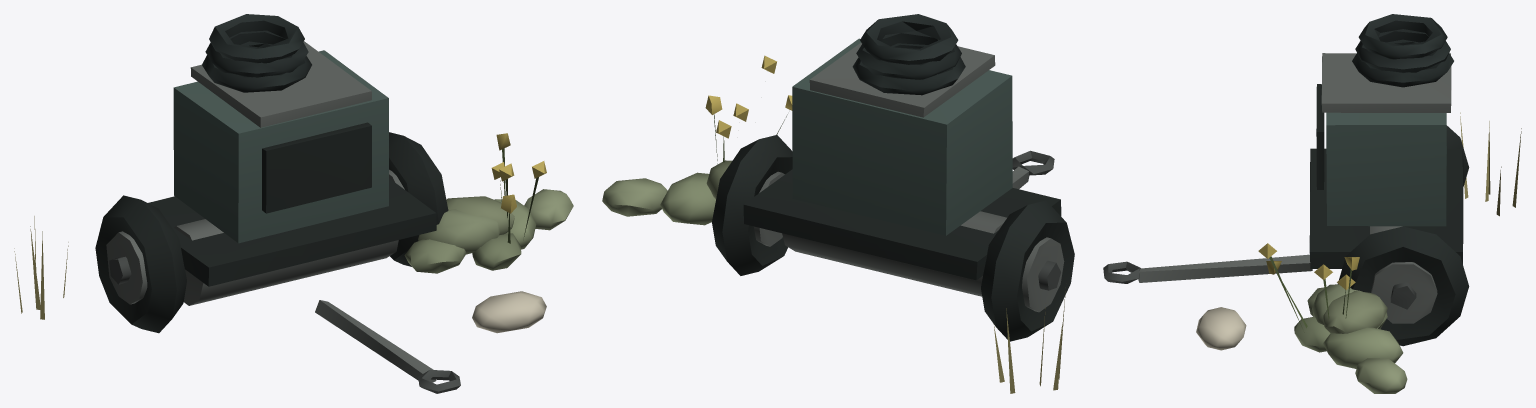
File: compressor_cart_c_lod1.glb
3 views of the same model, side by side, from view 1: azimuth 30°, elevation 25°; view 2: azimuth 150°, elevation 25°; view 3: azimuth 270°, elevation 25° (orthographic). The views are drawn at different scales.
Parts seen in each view (by area): view 1: Surface.001; view 2: Surface.001; view 3: Surface.001.
Part boxes in pixels (left/top/right/bottom): Surface.001: left=14, top=14, right=573, bottom=393; Surface.001: left=602, top=14, right=1074, bottom=393; Surface.001: left=1103, top=14, right=1521, bottom=393.
Size of the model in its own units: 4.88 by 2.5 by 3.8.
